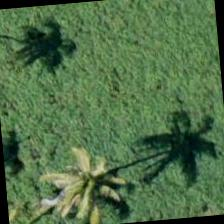Kelapa_Sawit: (31, 143, 130, 223)
